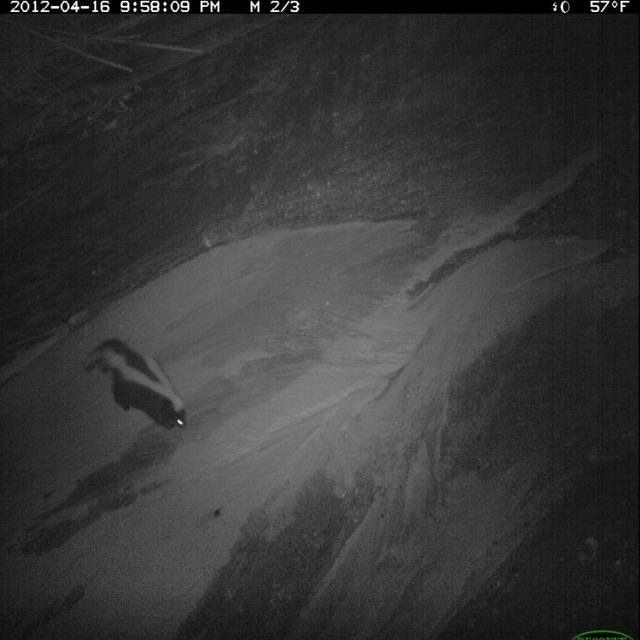skunk: (81, 334, 190, 436)
